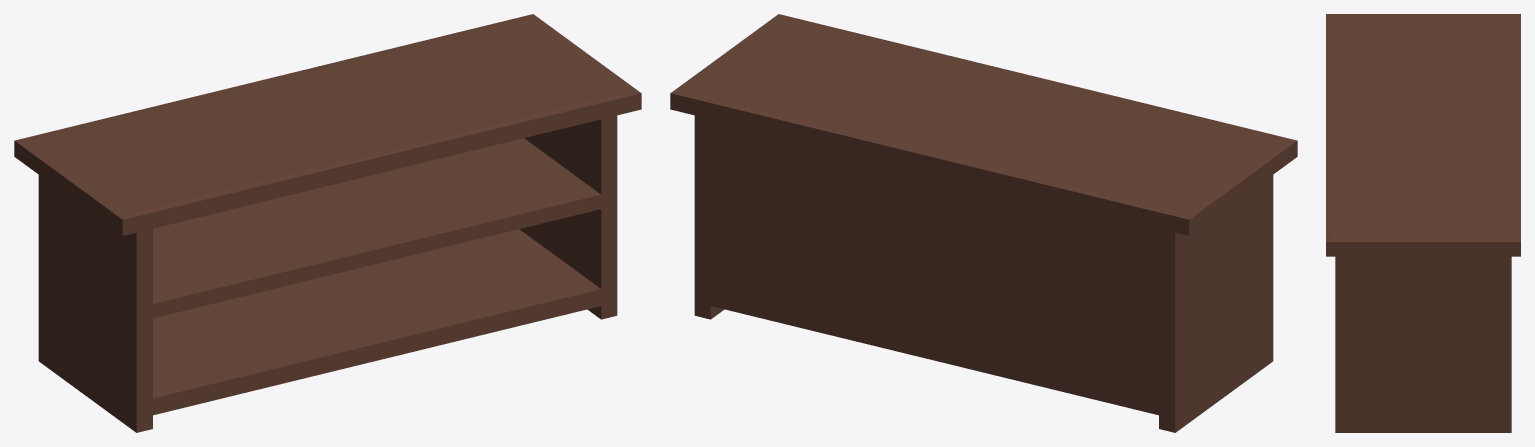
The model's file is kommode_offen.glb.
3 views of the same model, side by side, from view 1: azimuth 30°, elevation 25°; view 2: azimuth 150°, elevation 25°; view 3: azimuth 270°, elevation 25° (orthographic). The views are drawn at different scales.
Parts seen in each view (by area): view 1: cupboard; view 2: cupboard; view 3: cupboard.
Part boxes in pixels (left/top/right/bottom): cupboard: left=14, top=14, right=641, bottom=432; cupboard: left=670, top=14, right=1297, bottom=432; cupboard: left=1326, top=14, right=1520, bottom=432.
Size of the model in its own units: 2.2 by 0.8999 by 0.796.
